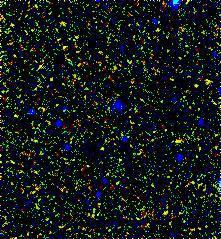star: (194, 65, 221, 95)
